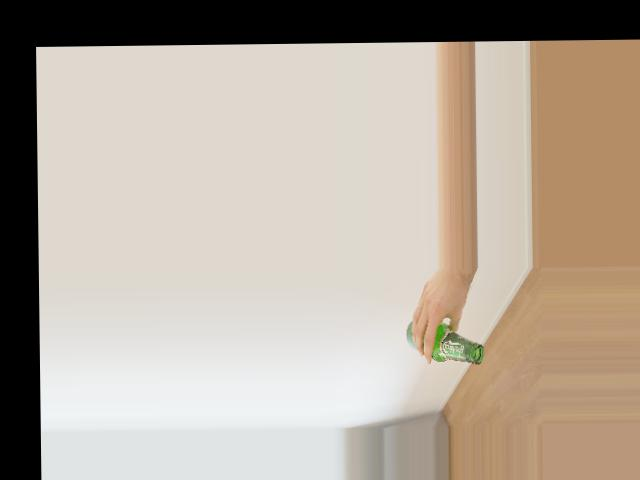beer: (406, 321, 485, 364)
